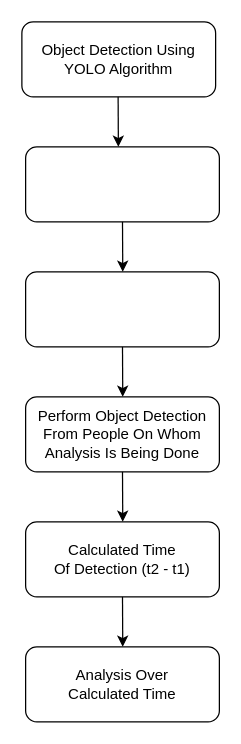
Some shapes in this 241 by 744 pixel diagram are drawn without their labels. The centre of each missing label's shape, as x and y in pixels:
"Create Dataset Of Objects' Images" goes at [121,184].
"Train Yolo Model For New Objects" goes at [121,309].
